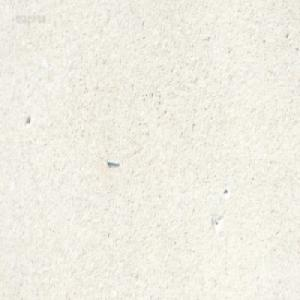Nail: (106, 157, 119, 165)
